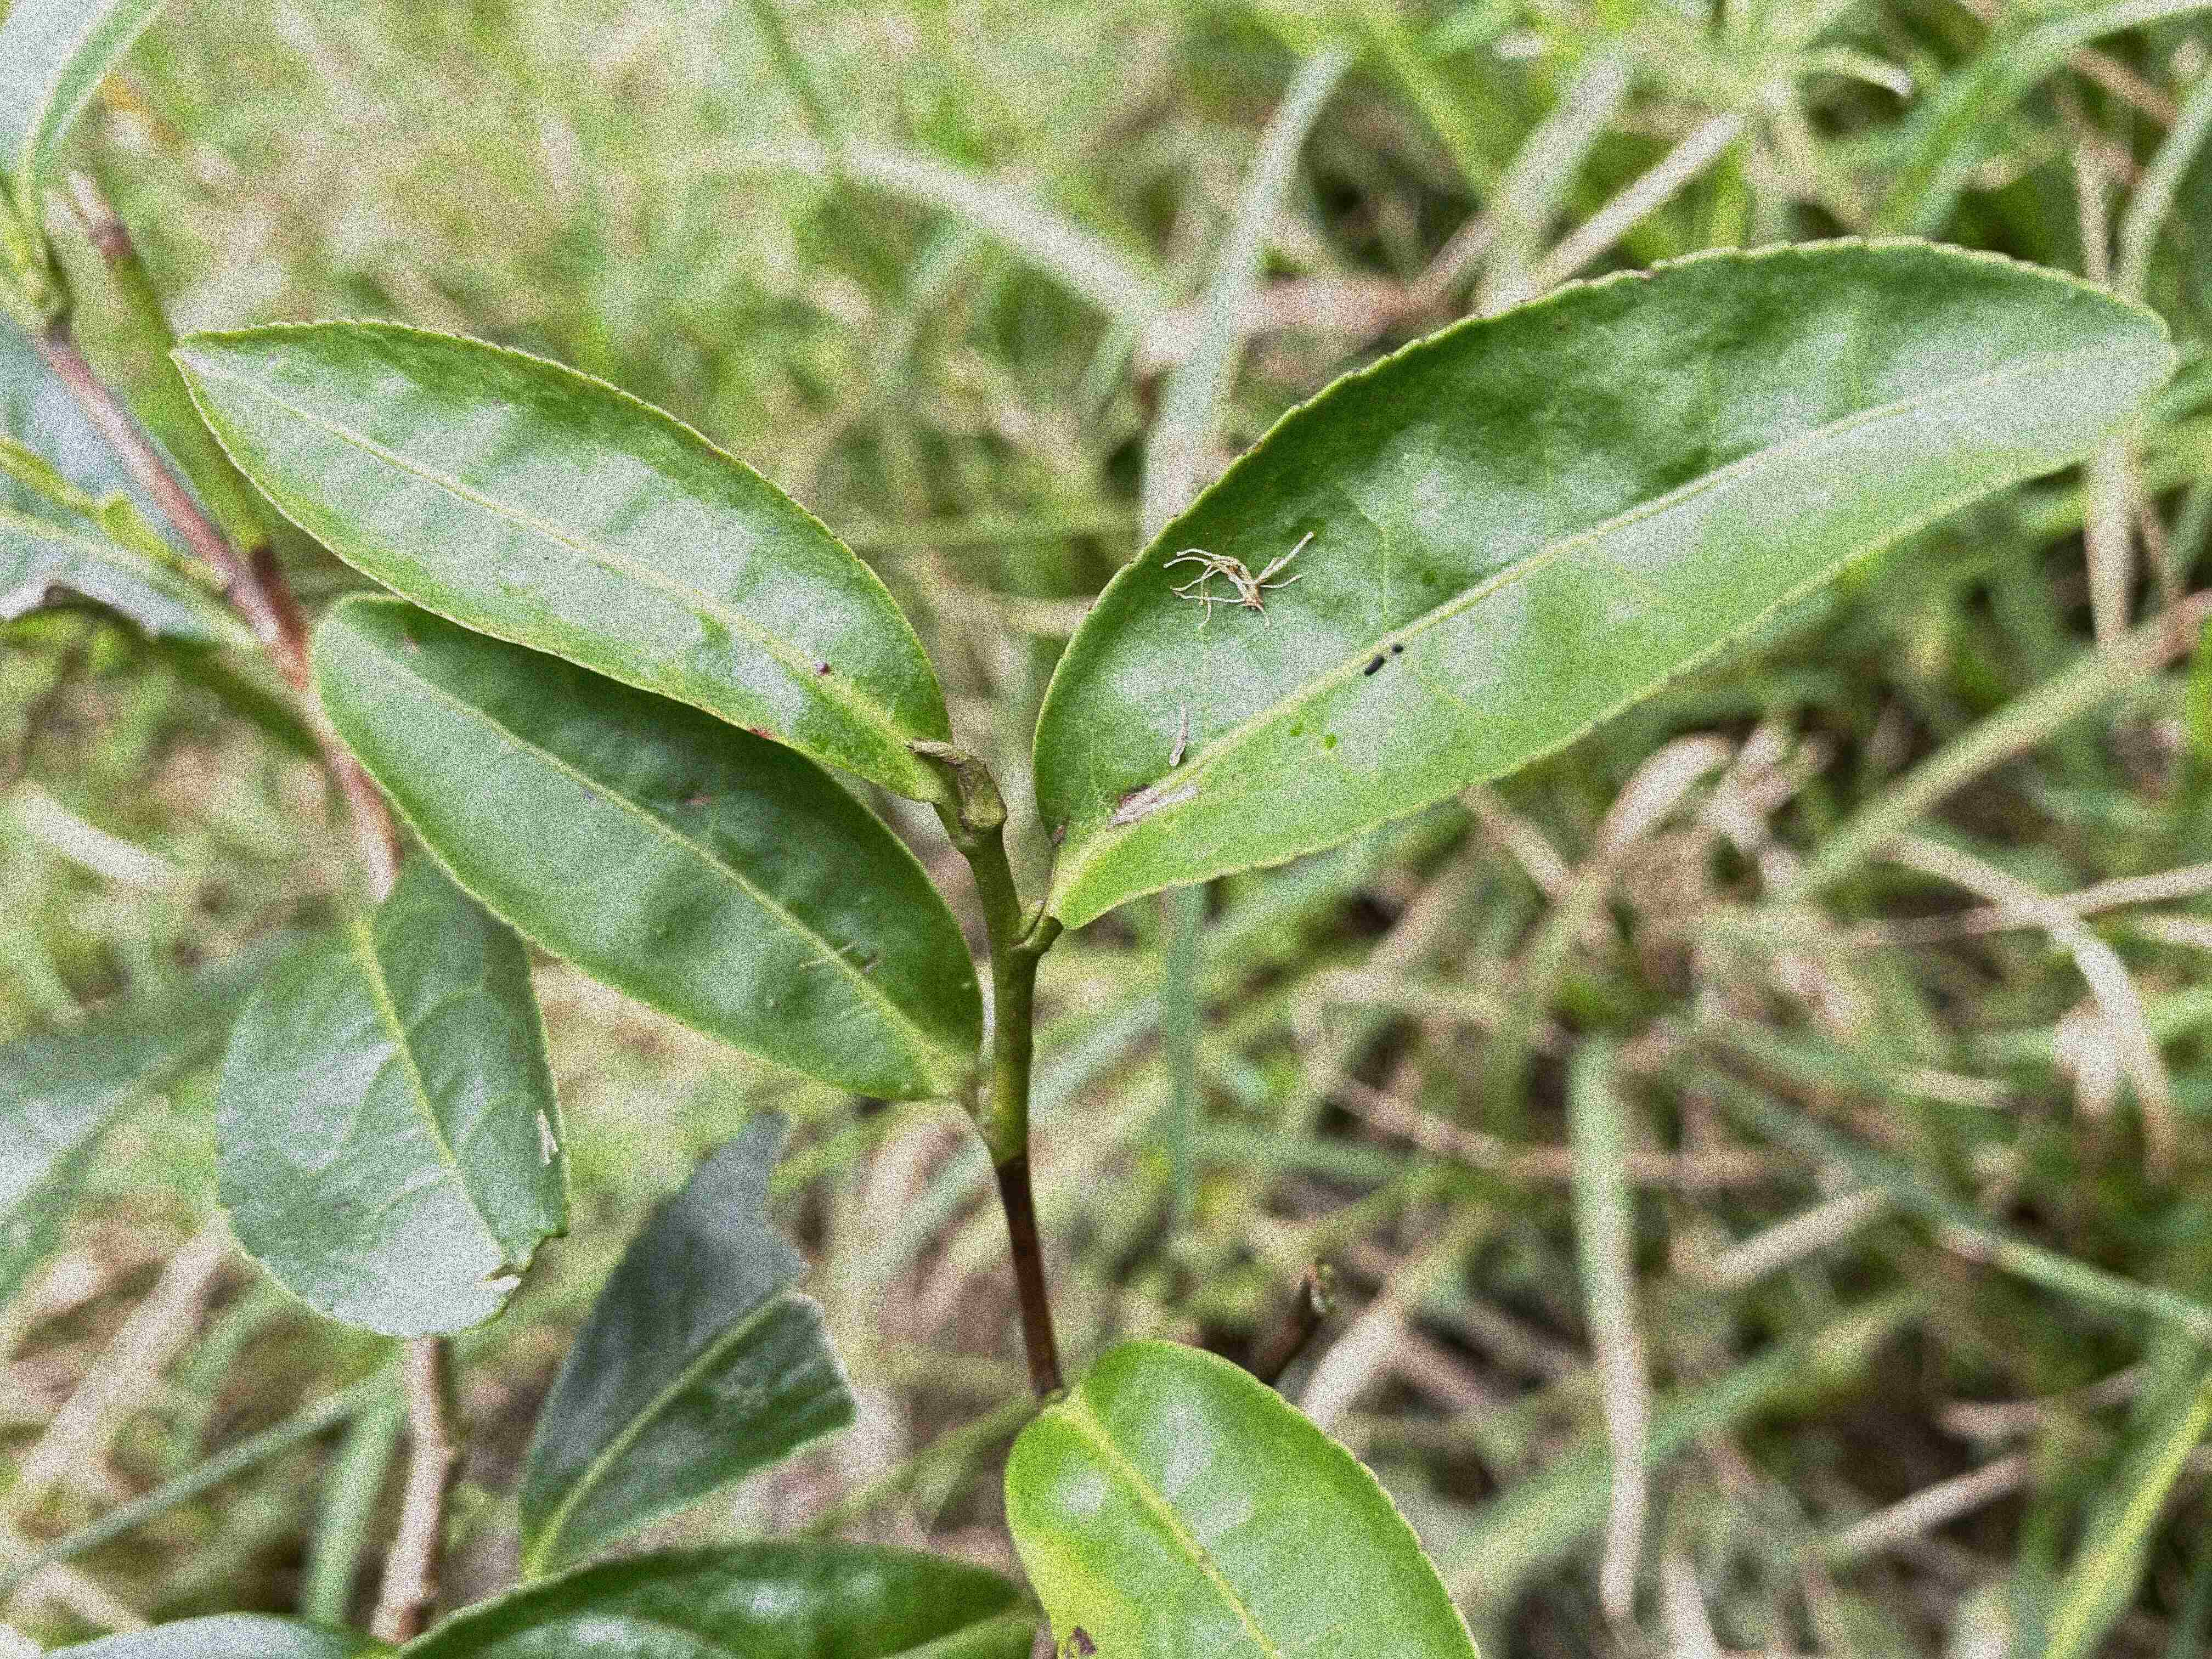chihuo_high: (519, 1103, 859, 1572)
tanju_low: (1033, 235, 2179, 931), (1001, 1342, 1477, 1657)
